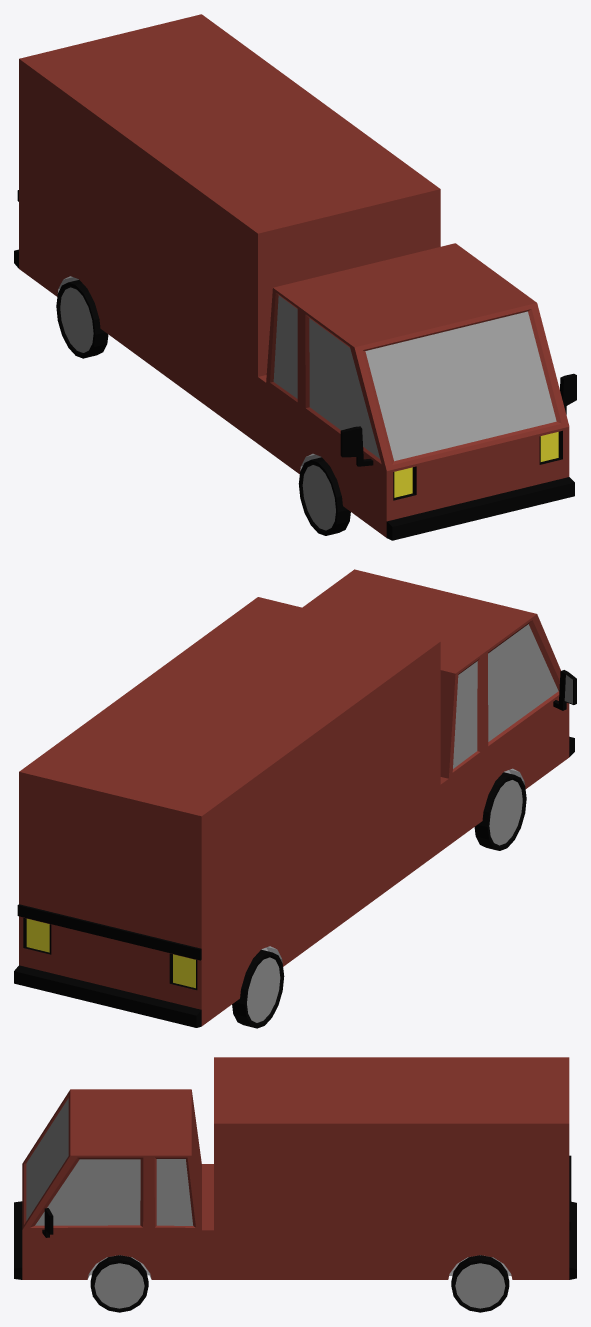
File: Delivery Truck 3.fbx
3 renders of one model, top to bottom at view 1: azimuth 30°, elevation 25°; view 2: azimuth 150°, elevation 25°; view 3: azimuth 270°, elevation 25°, orthographic. The views are drawn at different scales.
Parts seen in each view (by area): view 1: Delivery Truck Body.003, Wheel FR.021, Wheel RR.019; view 2: Delivery Truck Body.003, Wheel FR.021, Wheel RR.019; view 3: Delivery Truck Body.003, Wheel RL.019, Wheel FL.021.
Part boxes in pixels (box(x1,y1,x2,y2)): Delivery Truck Body.003: box(14, 14, 576, 540); Wheel FR.021: box(298, 457, 350, 535); Wheel RR.019: box(56, 280, 108, 358); Delivery Truck Body.003: box(14, 569, 576, 1027); Wheel FR.021: box(474, 772, 526, 850); Wheel RR.019: box(232, 949, 284, 1028); Delivery Truck Body.003: box(14, 1057, 576, 1279); Wheel RL.019: box(451, 1255, 509, 1312); Wheel FL.021: box(90, 1255, 148, 1312).
Size of the model in its own units: 1.91 by 1.96 by 5.34.
